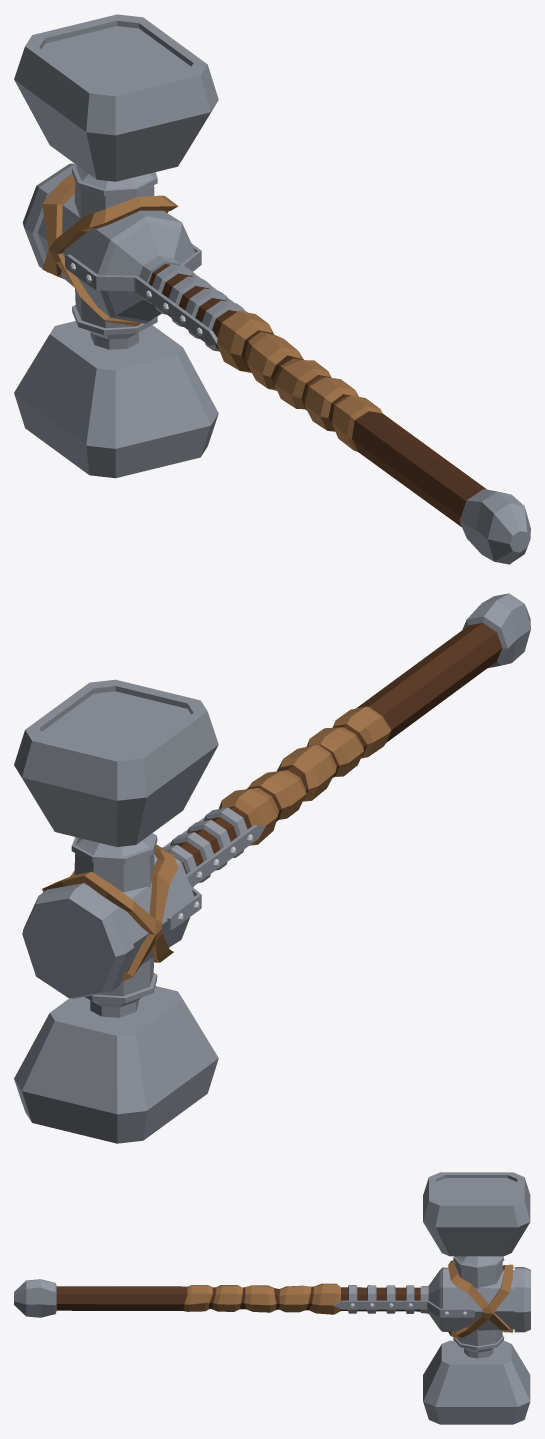
File: melee.hammer.glb
The picture shows the model from 3 angles, top to bottom: view 1: azimuth 30°, elevation 25°; view 2: azimuth 150°, elevation 25°; view 3: azimuth 270°, elevation 25°; orthographic projection. The views are drawn at different scales.
Visible parts, largest first — view 1: melee.hammer; view 2: melee.hammer; view 3: melee.hammer.
Boxes of the visible parts, <box> form: melee.hammer: <box>14,14,530,564</box>; melee.hammer: <box>14,593,530,1143</box>; melee.hammer: <box>14,1172,530,1424</box>.
Size of the model in its own units: 0.2038 by 0.5607 by 1.2.
